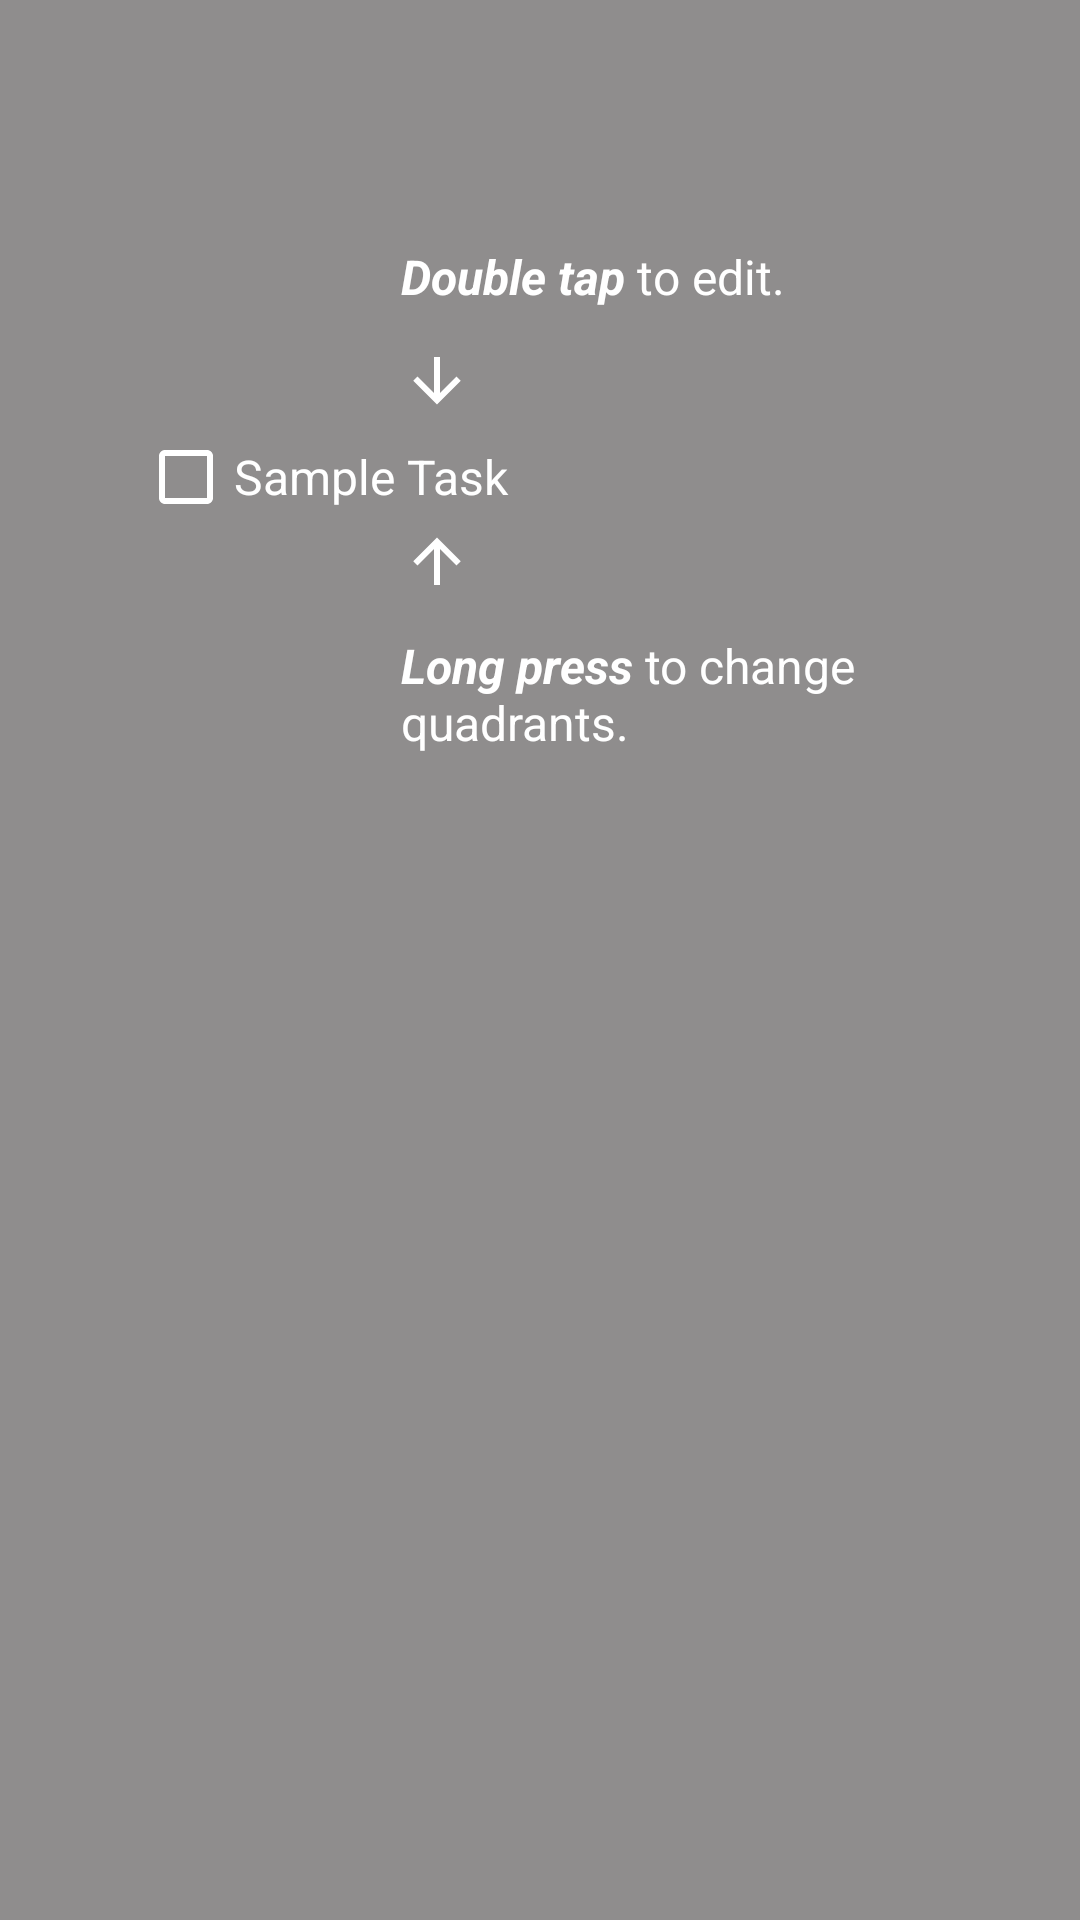

Icons on this 1080px×1920px Android screen, each with its box as (x1, y1, x2, y2):
arrow down: (413, 357, 461, 404)
arrow up: (413, 538, 461, 585)
